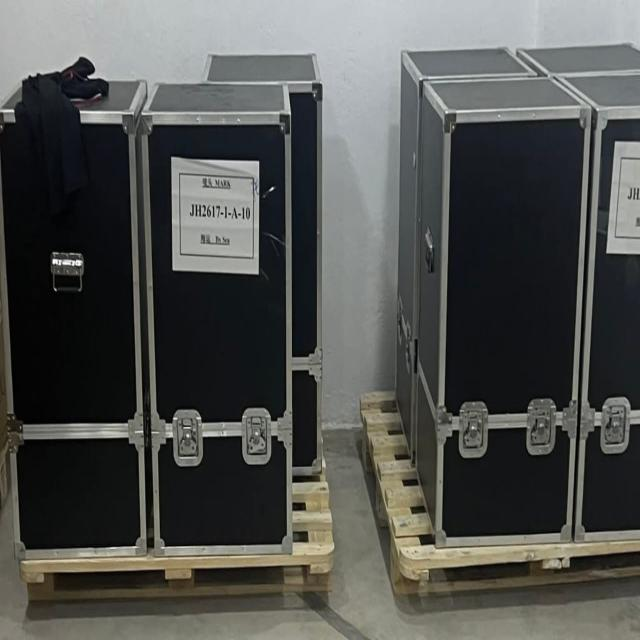export_mark_label: (157, 146, 280, 302), (608, 132, 640, 267)
wooden_box: (417, 67, 593, 550), (138, 63, 303, 559), (0, 63, 149, 553), (390, 30, 535, 468), (200, 42, 328, 482), (561, 45, 640, 558), (510, 24, 640, 90)
